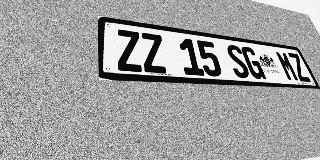1: (177, 37, 205, 76)
5: (196, 40, 224, 77)
G: (240, 46, 267, 79)
M: (275, 51, 300, 81)
S: (224, 44, 251, 78)
Z: (115, 29, 144, 72), (140, 32, 168, 74), (287, 52, 312, 82)
